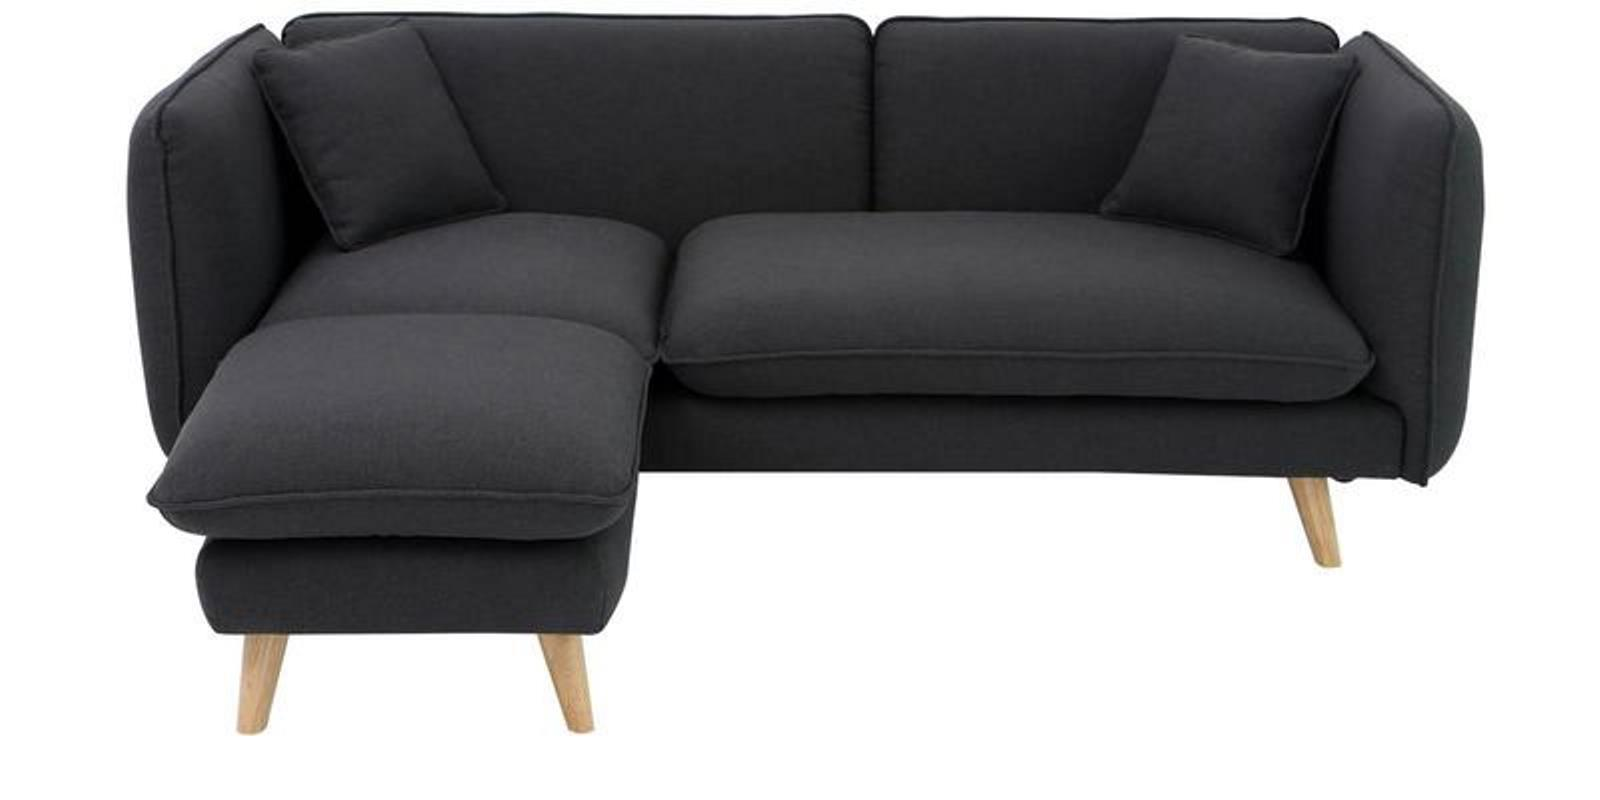Gloria Three Seater Sofa with Ottoman in Grey Colour by CasaCraft: (105, 3, 1514, 782)
